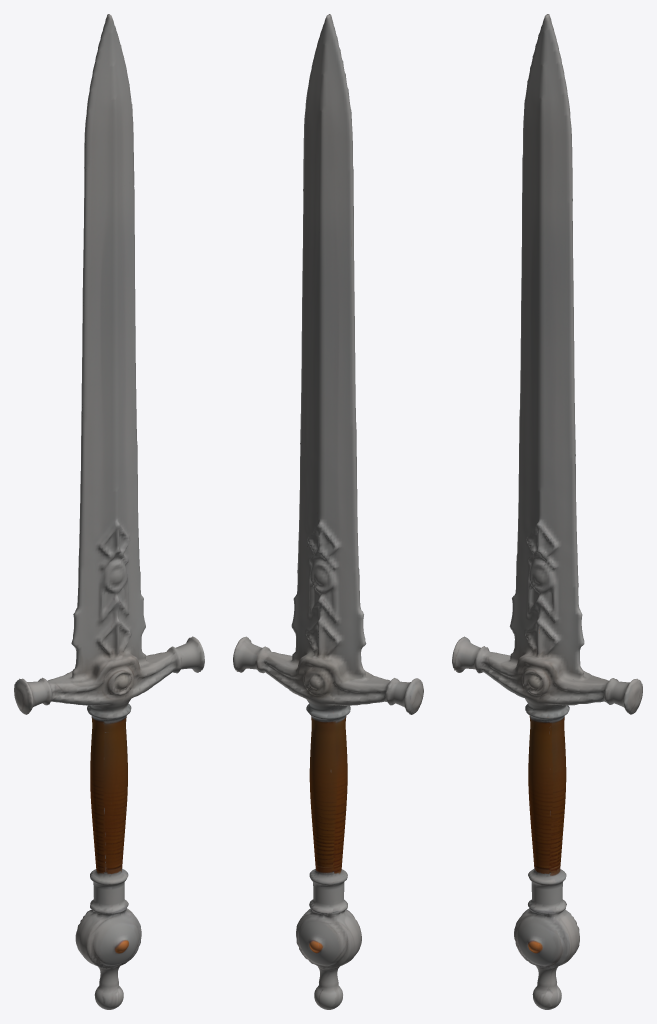
The model's file is human_sword_lv1.fbx.
3 views of the same model, side by side, from view 1: azimuth 30°, elevation 25°; view 2: azimuth 150°, elevation 25°; view 3: azimuth 330°, elevation 25° (orthographic).
Visible parts, largest first — view 1: Human Sword_LV1; view 2: Human Sword_LV1; view 3: Human Sword_LV1.
Part boxes in pixels (x1,y1,x2,y2): Human Sword_LV1: [14, 14, 204, 1009]; Human Sword_LV1: [233, 14, 423, 1009]; Human Sword_LV1: [452, 14, 642, 1009].
Bounding box in the file's own units: 22.6 × 119 × 6.63.
